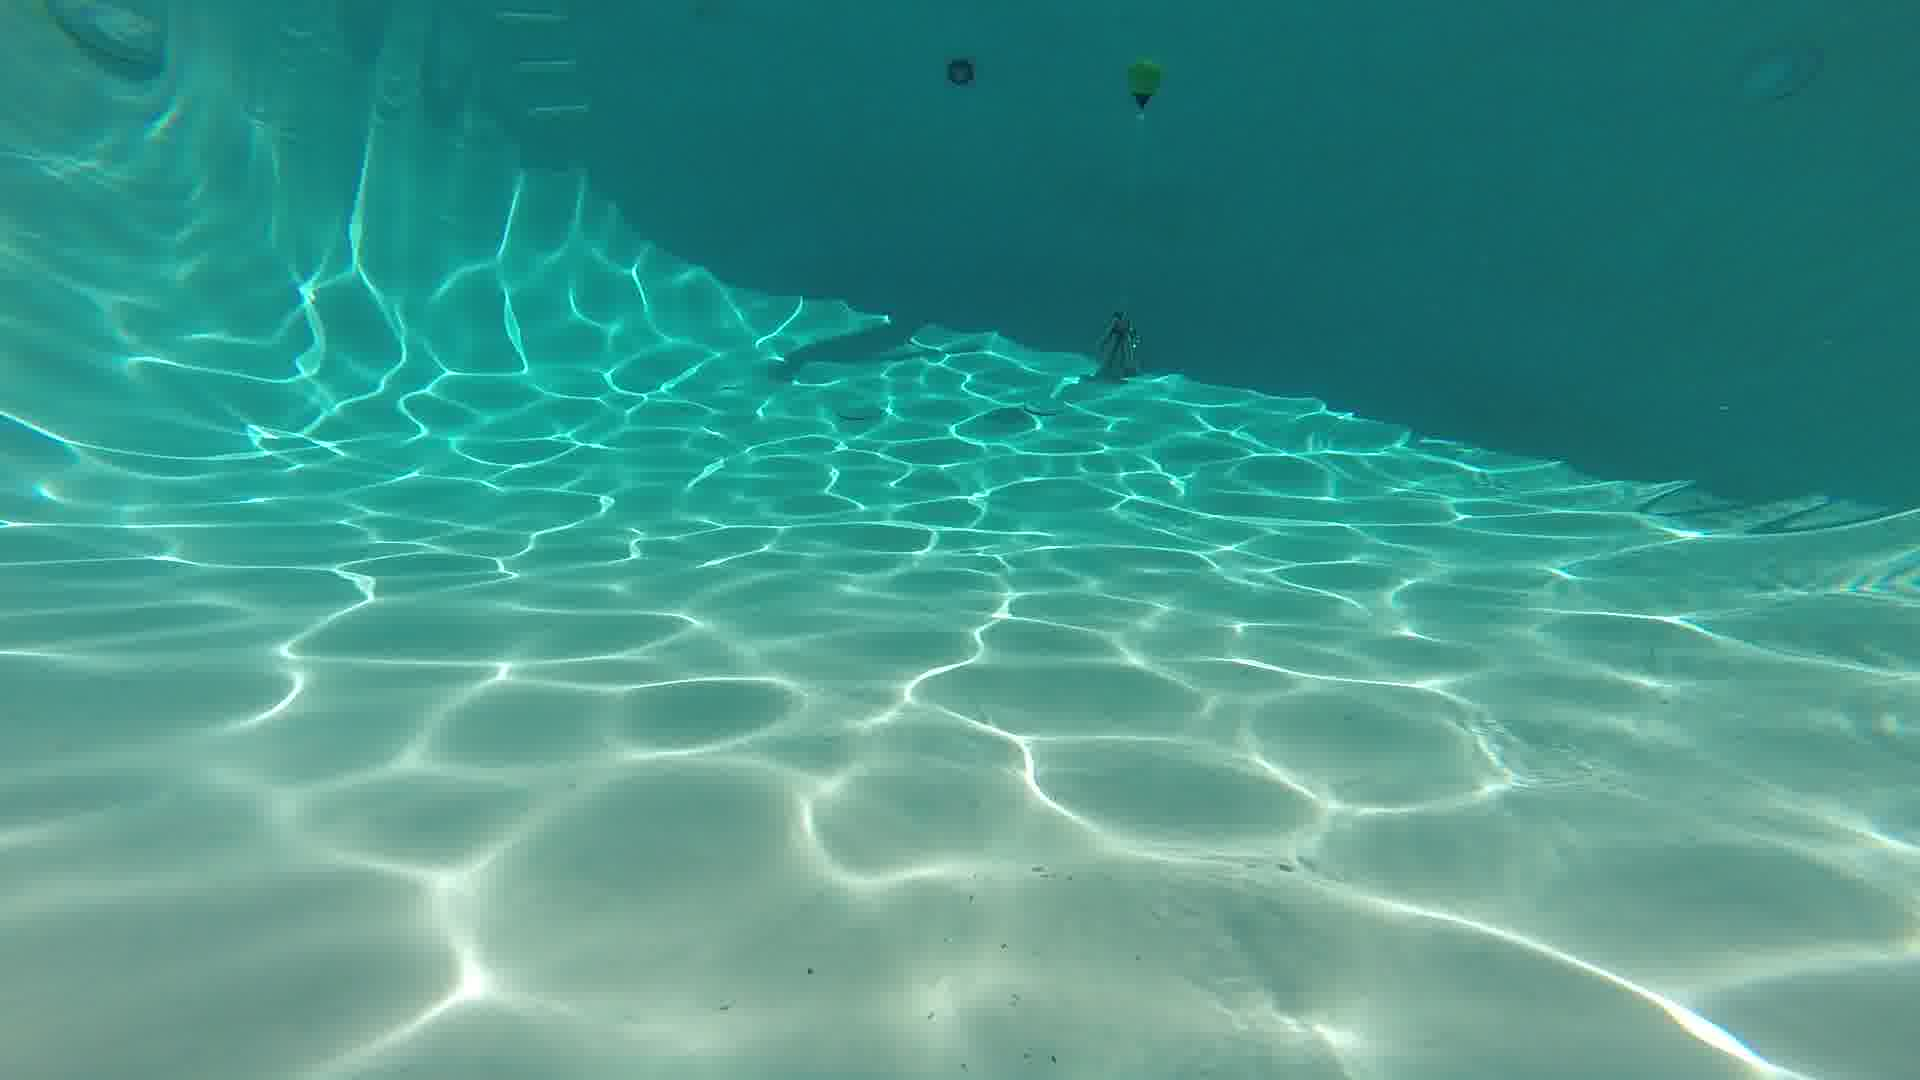yellow_buoy: (1126, 59, 1160, 105)
